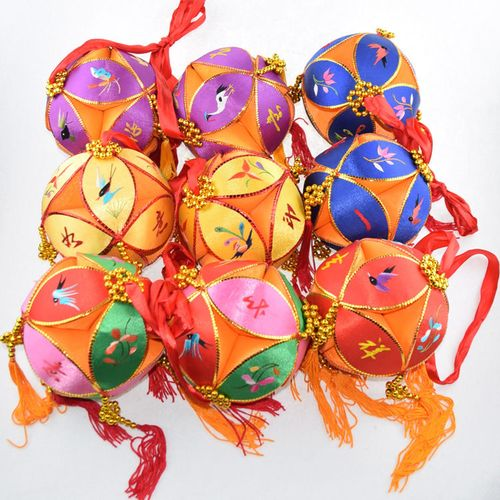xiuqiu: (297, 242, 469, 380), (5, 265, 164, 404), (152, 272, 308, 413), (31, 148, 176, 266), (34, 34, 178, 151), (299, 138, 443, 249), (176, 149, 307, 263), (303, 29, 424, 141), (176, 56, 300, 157)
